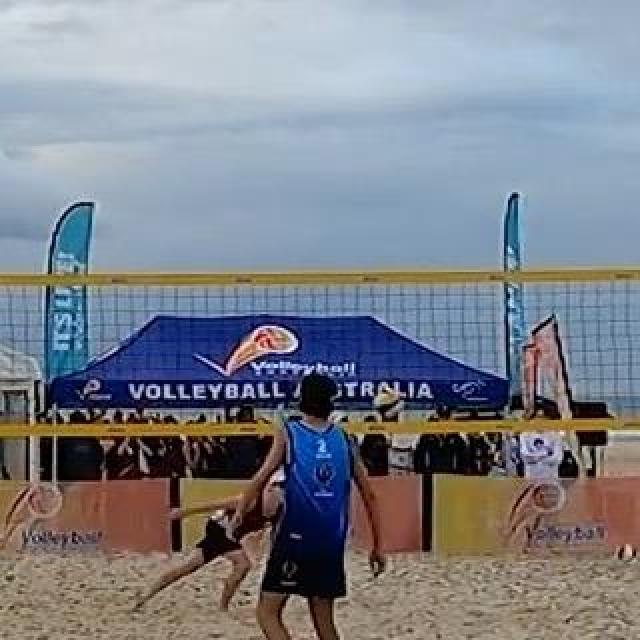volleyball: (373, 389, 405, 417), (617, 545, 635, 563)
